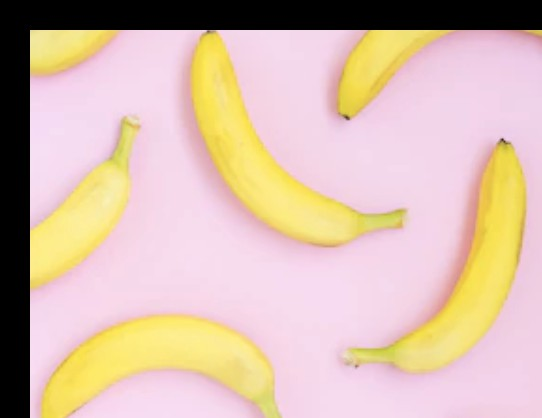fresh_banana: (190, 27, 407, 247), (340, 139, 526, 375), (41, 313, 281, 418), (23, 114, 142, 285), (337, 29, 458, 119)
